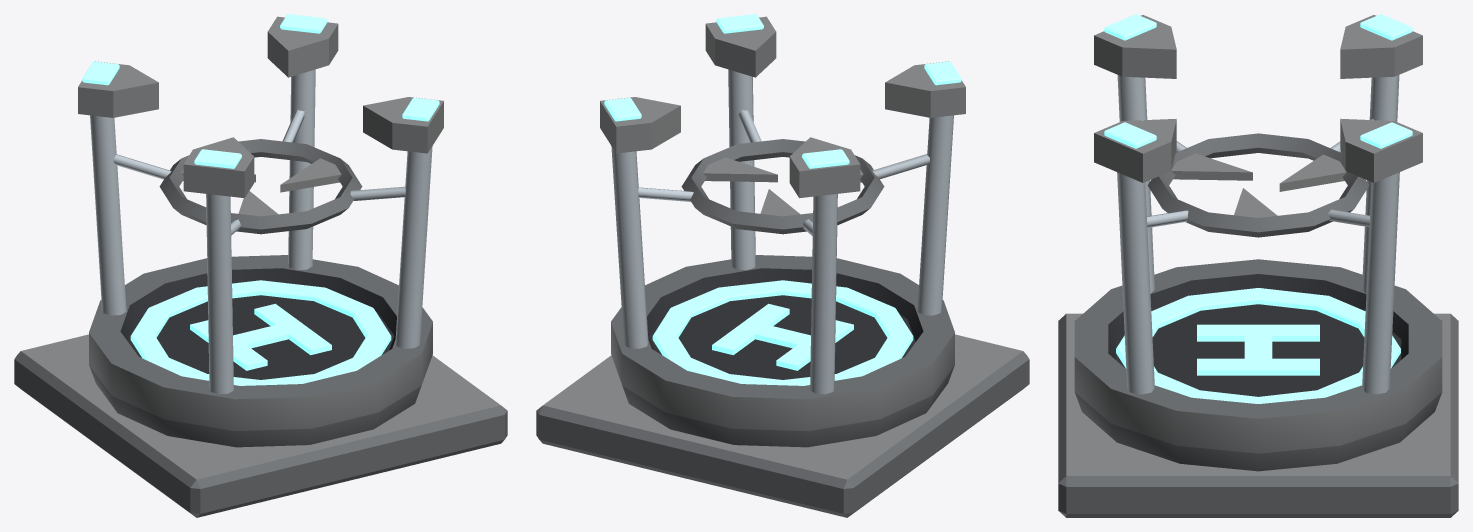
Rendered from R4X_FlyingDroneDeployer_LOD1.glb.
3 views of the same model, side by side, from view 1: azimuth 30°, elevation 25°; view 2: azimuth 150°, elevation 25°; view 3: azimuth 270°, elevation 25° (orthographic). The views are drawn at different scales.
Visible parts, largest first — view 1: R4X_FlyingDroneDeployer_LOD1; view 2: R4X_FlyingDroneDeployer_LOD1; view 3: R4X_FlyingDroneDeployer_LOD1.
Part boxes in pixels (x1,y1,x2,y2): R4X_FlyingDroneDeployer_LOD1: [14, 14, 507, 517]; R4X_FlyingDroneDeployer_LOD1: [536, 14, 1029, 517]; R4X_FlyingDroneDeployer_LOD1: [1058, 14, 1458, 517].
Bounding box in the file's own units: 0.52 × 0.513 × 0.52.
